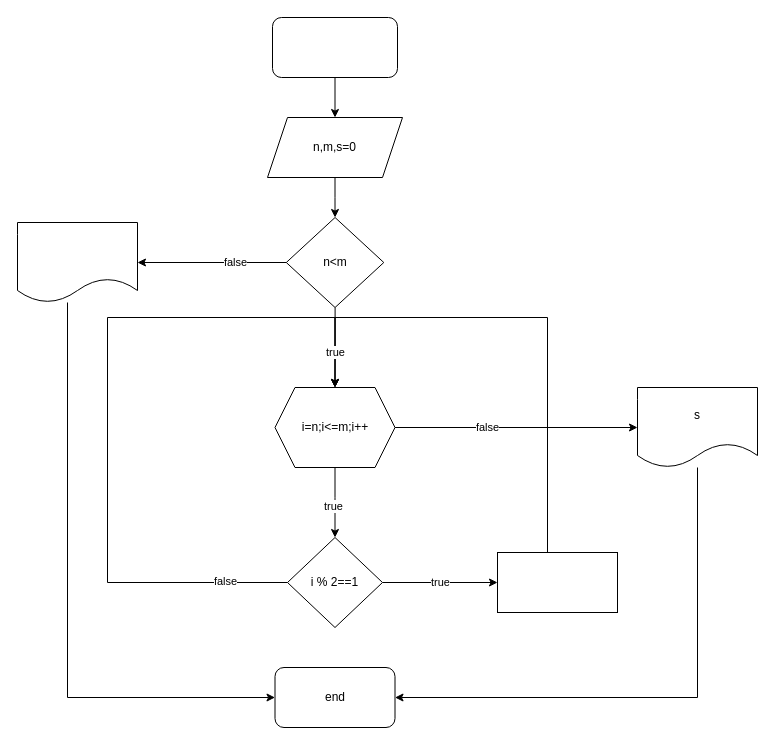
Image size: 775x745. Some labels were removed from this diagram. Here are the shapes that lost their labels. From the top down, the box of each, then its label:
(272, 16, 398, 78): start
(16, 222, 138, 302): Enter the correct numbers
(496, 552, 618, 612): s++
